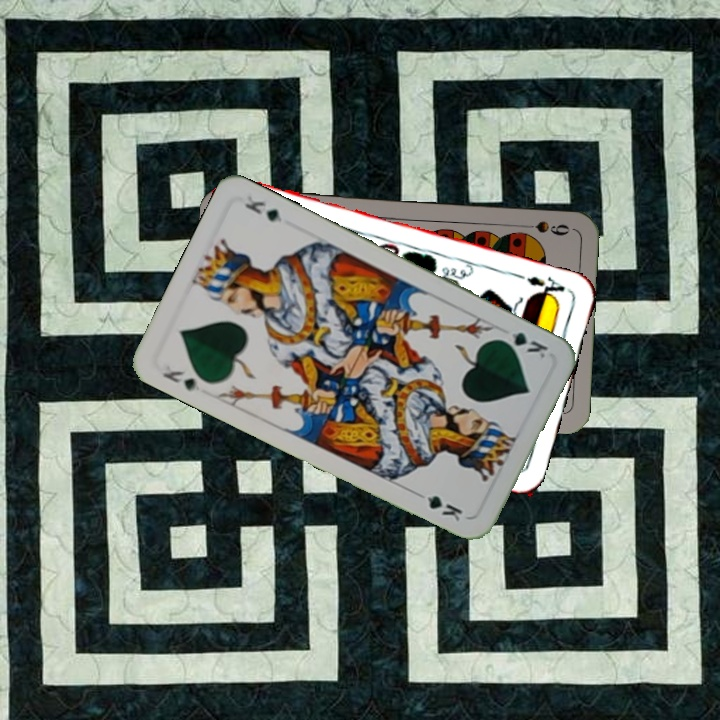EA: (523, 272, 568, 303)
GK: (494, 328, 551, 361), (158, 366, 204, 394)
S9: (514, 217, 571, 238)
